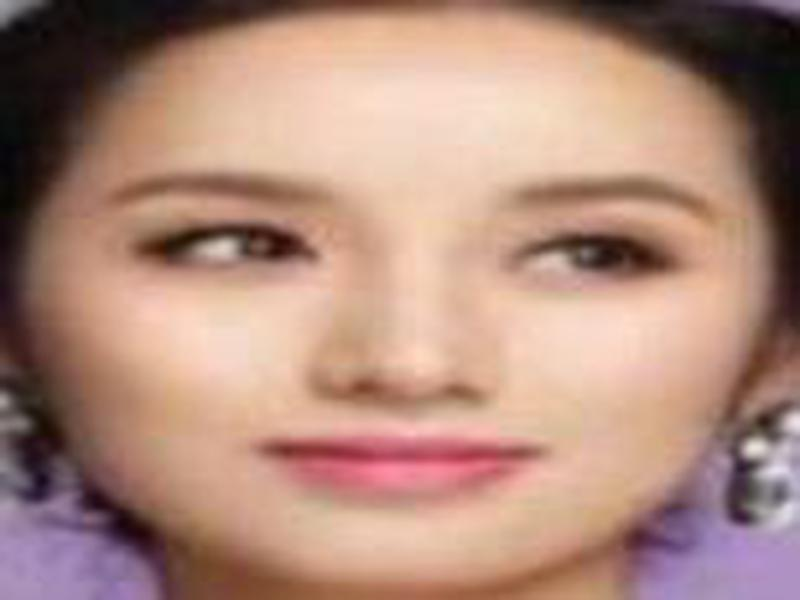without_mask: (46, 50, 733, 578)
